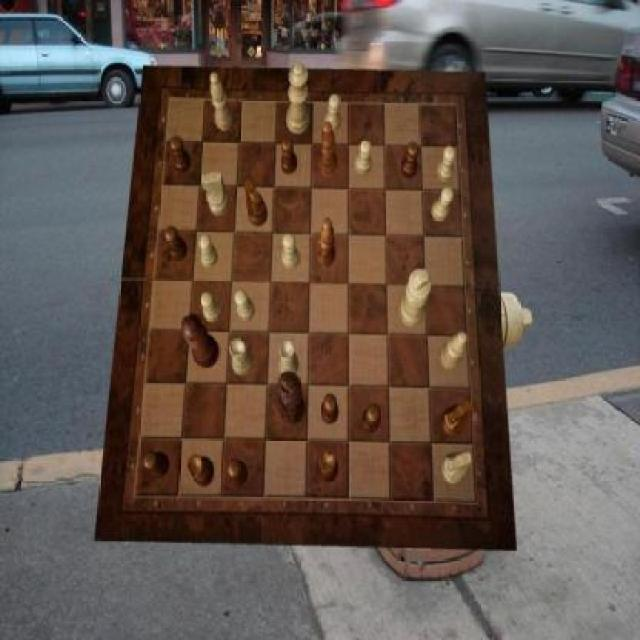bishop: (318, 122, 338, 176), (317, 218, 336, 268)
black-bishop: (278, 370, 306, 424)
black-king: (440, 399, 472, 436), (244, 180, 268, 228)
black-knight: (169, 135, 192, 174), (164, 226, 188, 261), (400, 142, 419, 179), (144, 451, 170, 478), (282, 137, 298, 175), (362, 404, 382, 434), (228, 460, 248, 488), (322, 394, 339, 424)
black-pawn: (182, 314, 220, 368)
black-queen: (188, 454, 215, 488), (317, 451, 340, 483)
black-rook: (210, 72, 234, 131), (440, 332, 468, 370)
white-bishop: (398, 269, 432, 328)
white-king: (202, 172, 229, 216), (442, 452, 472, 485)
white-knight: (432, 188, 455, 222), (198, 232, 218, 267), (200, 292, 222, 323), (437, 145, 455, 182), (236, 291, 256, 323), (282, 234, 299, 270), (324, 94, 340, 132), (356, 140, 372, 176)
white-pawn: (286, 63, 310, 134)
white-queen: (230, 339, 254, 376), (278, 340, 300, 380)
